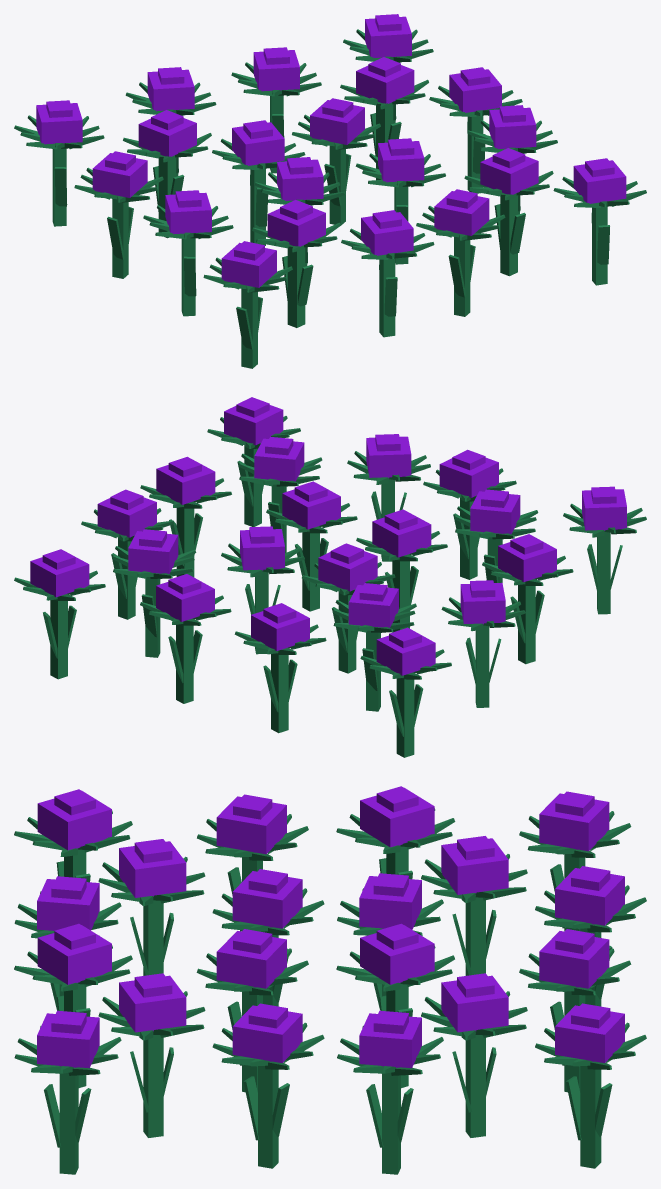
File: ThistlePatch.fbx
The picture shows the model from 3 angles, top to bottom: view 1: azimuth 30°, elevation 25°; view 2: azimuth 150°, elevation 25°; view 3: azimuth 270°, elevation 25°; orthographic projection. The views are drawn at different scales.
Visible parts, largest first — view 1: Cube.004; view 2: Cube.004; view 3: Cube.004.
Boxes of the visible parts, box(x1,y1,x2,y2) form: Cube.004: box(14, 14, 646, 368); Cube.004: box(14, 397, 646, 757); Cube.004: box(14, 786, 646, 1174).
Size of the model in its own units: 198 by 52.21 by 196.
